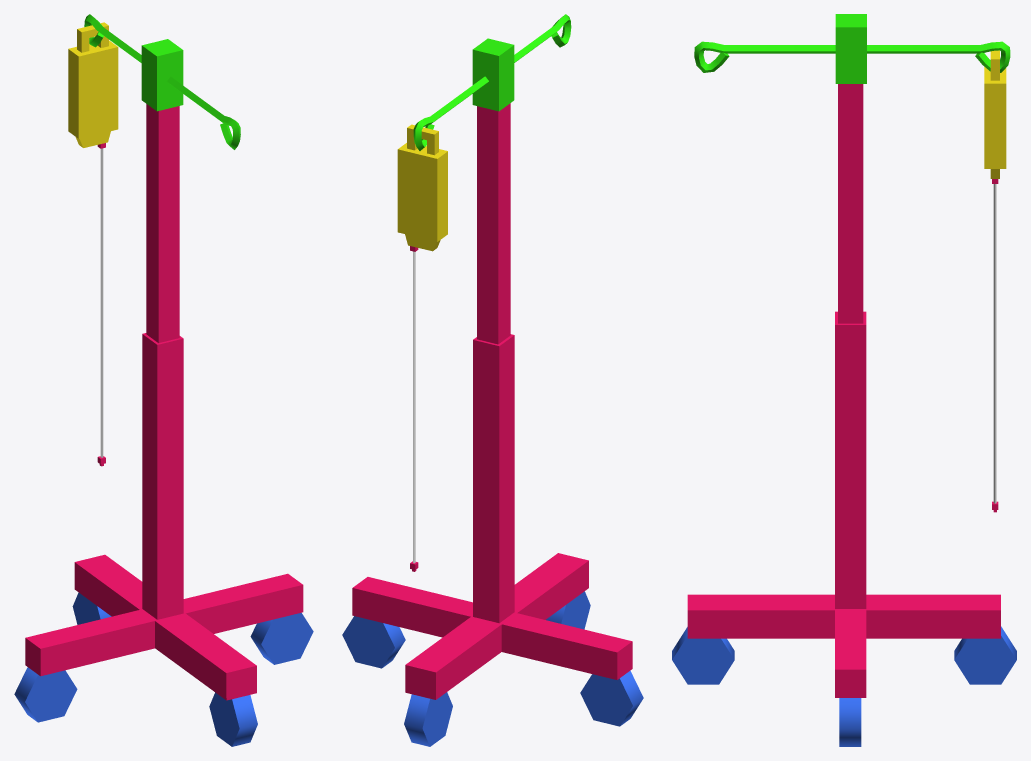
The model's file is UV_Drip_Object.gltf.
The picture shows the model from 3 angles, left to right: view 1: azimuth 30°, elevation 25°; view 2: azimuth 150°, elevation 25°; view 3: azimuth 270°, elevation 25°; orthographic projection. The views are drawn at different scales.
Parts seen in each view (by area): view 1: UV_Drip_Object; view 2: UV_Drip_Object; view 3: UV_Drip_Object.
Boxes of the visible parts, box(x1,y1,x2,y2) form: UV_Drip_Object: box(14, 14, 313, 746); UV_Drip_Object: box(342, 14, 643, 746); UV_Drip_Object: box(672, 14, 1016, 746).
Bounding box in the file's own units: 16.26 × 34.38 × 16.29.
